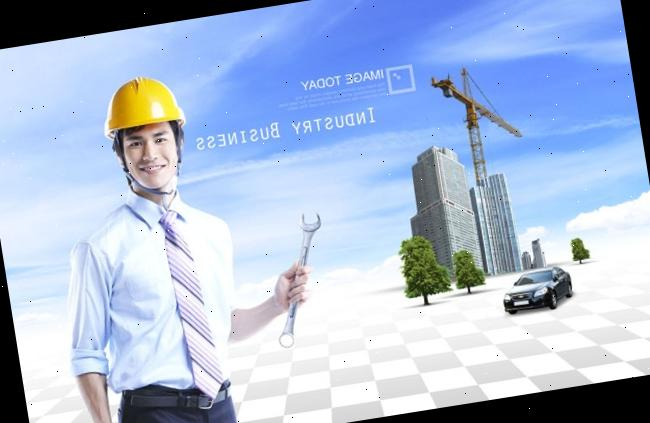helmet: (92, 70, 185, 140)
no_wear: (78, 199, 251, 404)
